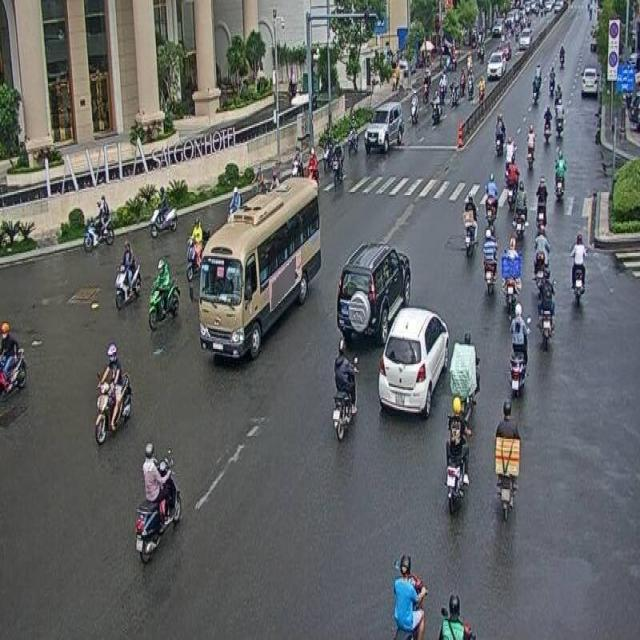bus: (198, 178, 326, 366)
car: (378, 302, 449, 422), (336, 240, 409, 342)
motorcycle: (94, 344, 134, 450), (494, 398, 521, 521), (444, 396, 470, 517), (447, 334, 480, 428), (390, 550, 424, 640), (330, 340, 359, 442), (146, 258, 180, 330), (506, 298, 530, 398), (0, 318, 26, 401), (114, 237, 141, 310), (438, 588, 475, 640), (84, 193, 115, 247), (537, 264, 555, 352), (501, 236, 522, 311), (150, 184, 178, 238), (569, 228, 588, 304), (532, 221, 550, 299), (482, 224, 498, 296), (462, 190, 478, 258), (512, 180, 527, 236), (484, 172, 498, 226), (553, 148, 566, 200), (536, 175, 547, 229)
